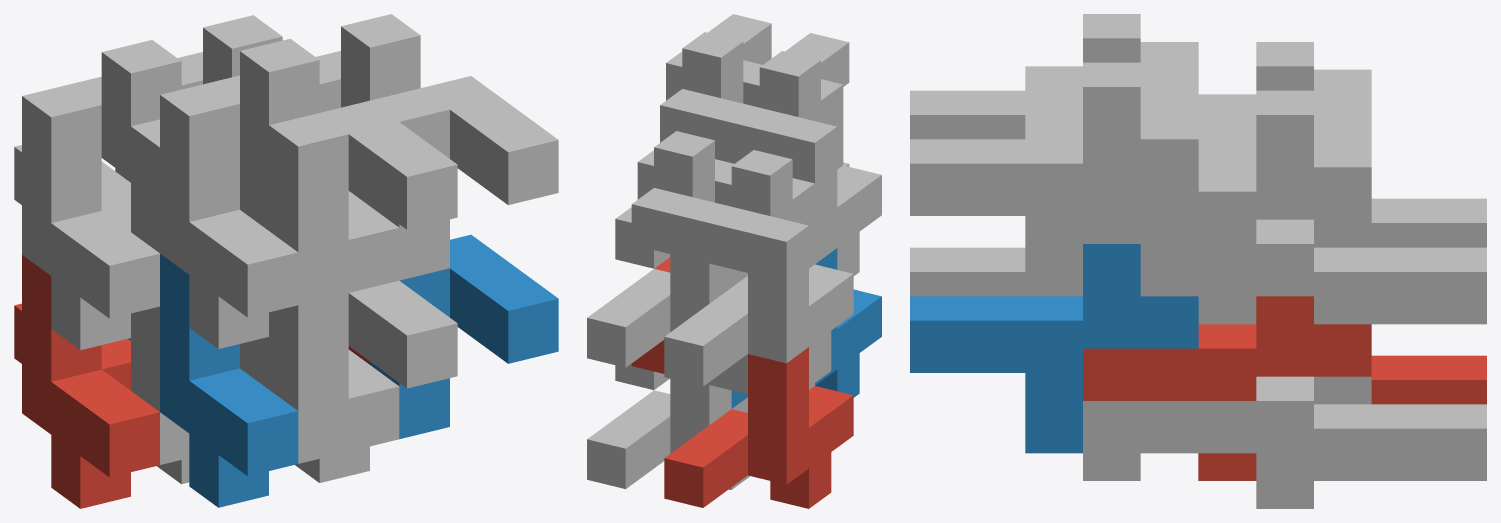
File: tiling.obj
3 renders of one model, left to right at view 1: azimuth 30°, elevation 25°; view 2: azimuth 150°, elevation 25°; view 3: azimuth 270°, elevation 25°, orthographic. The views are drawn at different scales.
Parts seen in each view (by area): view 1: copy_2_domain_4, copy_1_domain_3, copy_1_domain_4, copy_2_domain_8, copy_1_domain_1, copy_2_domain_2, copy_1_domain_2, copy_2_domain_6, copy_2_domain_3, copy_1_domain_6, copy_2_domain_1, copy_1_domain_8 (+1 smaller); view 2: copy_1_domain_1, copy_1_domain_3, copy_1_domain_7, copy_2_domain_4, copy_1_domain_5, copy_1_domain_4, copy_2_domain_8, copy_2_domain_3, copy_2_domain_7, copy_1_domain_2, copy_1_domain_8, copy_2_domain_1 (+2 smaller); view 3: copy_2_domain_8, copy_2_domain_6, copy_2_domain_7, copy_2_domain_5, copy_1_domain_5, copy_1_domain_7, copy_1_domain_6, copy_2_domain_4, copy_1_domain_8, copy_1_domain_3, copy_2_domain_3, copy_1_domain_1 (+2 smaller).
Boxes of the visible parts, bbox=[...] form: copy_2_domain_4: bbox=[211, 38, 457, 304]; copy_1_domain_3: bbox=[14, 83, 159, 350]; copy_1_domain_4: bbox=[160, 82, 298, 348]; copy_2_domain_8: bbox=[316, 14, 558, 280]; copy_1_domain_1: bbox=[14, 255, 159, 508]; copy_2_domain_2: bbox=[269, 280, 457, 463]; copy_1_domain_2: bbox=[160, 253, 298, 507]; copy_2_domain_6: bbox=[370, 234, 558, 439]; copy_2_domain_3: bbox=[73, 40, 268, 252]; copy_1_domain_6: bbox=[295, 349, 399, 482]; copy_2_domain_1: bbox=[102, 203, 268, 464]; copy_1_domain_8: bbox=[319, 64, 399, 292]; copy_1_domain_1: bbox=[664, 347, 853, 508]; copy_1_domain_3: bbox=[664, 216, 853, 386]; copy_1_domain_7: bbox=[587, 197, 731, 367]; copy_2_domain_4: bbox=[737, 33, 849, 169]; copy_1_domain_5: bbox=[587, 378, 750, 489]; copy_1_domain_4: bbox=[731, 117, 881, 286]; copy_2_domain_8: bbox=[660, 14, 771, 142]; copy_2_domain_3: bbox=[709, 150, 814, 272]; copy_2_domain_7: bbox=[631, 131, 734, 253]; copy_1_domain_2: bbox=[731, 248, 881, 408]; copy_1_domain_8: bbox=[615, 98, 759, 268]; copy_2_domain_1: bbox=[709, 276, 814, 394]; copy_2_domain_8: bbox=[910, 62, 1198, 296]; copy_2_domain_6: bbox=[910, 244, 1198, 453]; copy_2_domain_7: bbox=[1083, 90, 1371, 324]; copy_2_domain_5: bbox=[1083, 296, 1371, 480]; copy_1_domain_5: bbox=[1256, 376, 1486, 508]; copy_1_domain_7: bbox=[1314, 118, 1486, 324]; copy_1_domain_6: bbox=[1083, 376, 1313, 480]; copy_2_domain_4: bbox=[910, 14, 1198, 139]; copy_1_domain_8: bbox=[1140, 90, 1313, 296]; copy_1_domain_3: bbox=[1314, 69, 1486, 247]; copy_2_domain_3: bbox=[1198, 42, 1371, 142]; copy_1_domain_1: bbox=[1371, 355, 1486, 404].
Bounding box in the file's own units: 6 × 9 × 10.
